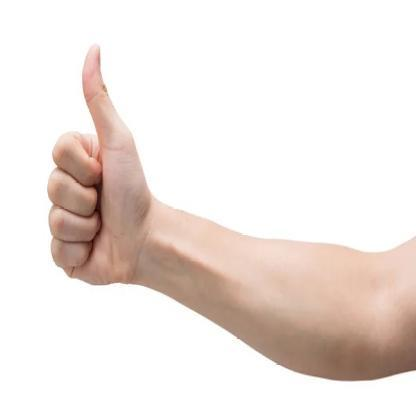thumb_up: (45, 38, 148, 288)
